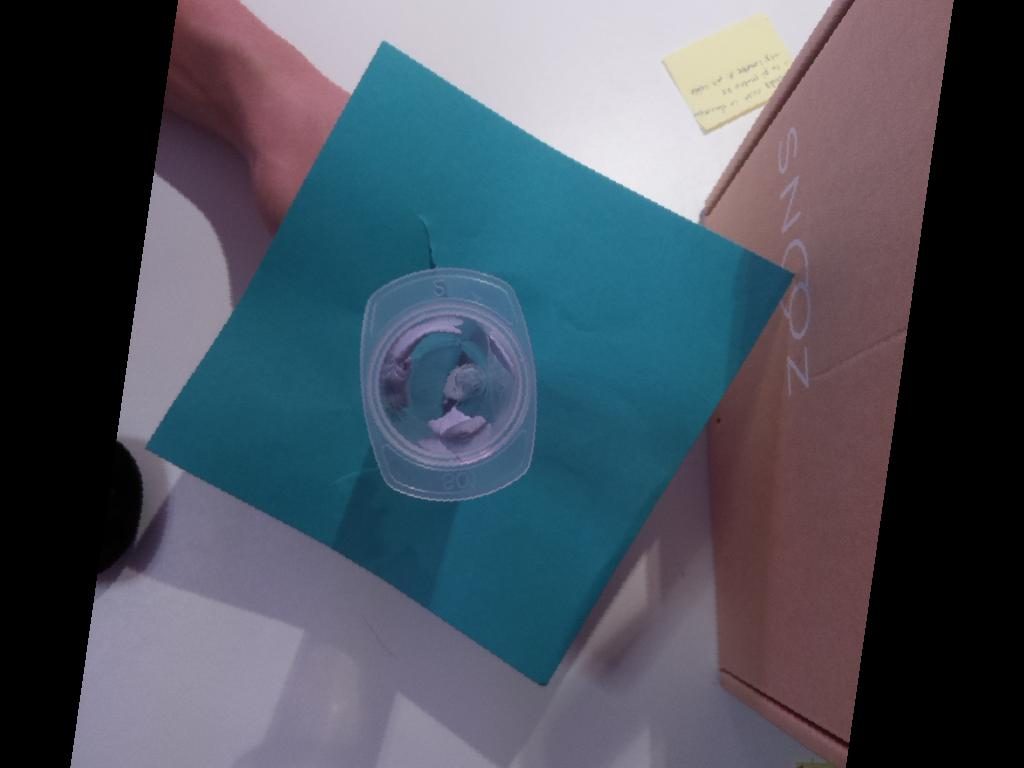dirty: (358, 268, 537, 501)
